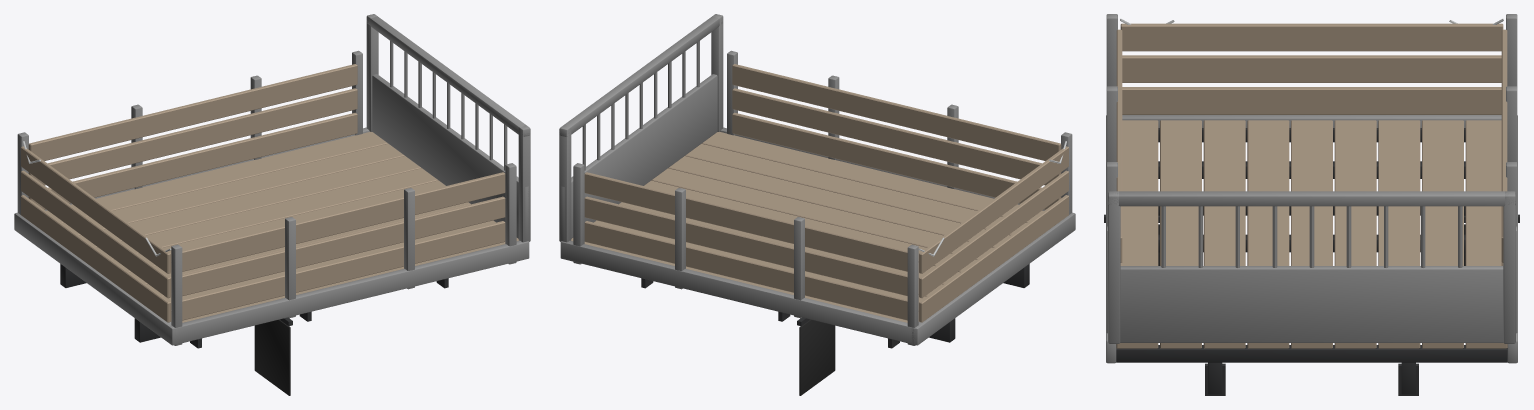
Rendered from stake.glb.
3 renders of one model, left to right at view 1: azimuth 30°, elevation 25°; view 2: azimuth 150°, elevation 25°; view 3: azimuth 270°, elevation 25°, orthographic. The views are drawn at different scales.
Visible parts, largest first — view 1: Stake_Parts; view 2: Stake_Parts; view 3: Stake_Parts.
Boxes of the visible parts, x1,y1,x2,y2 form: Stake_Parts: [14, 14, 530, 395]; Stake_Parts: [559, 14, 1075, 395]; Stake_Parts: [1104, 14, 1519, 395].
Bounding box in the file's own units: 2.63 × 1.46 × 2.02.
